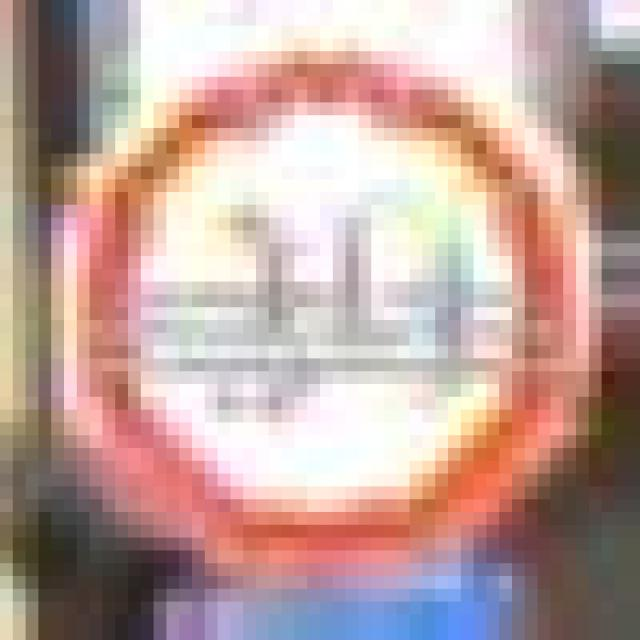SPEED_LIMIT_30: (38, 26, 576, 550)
